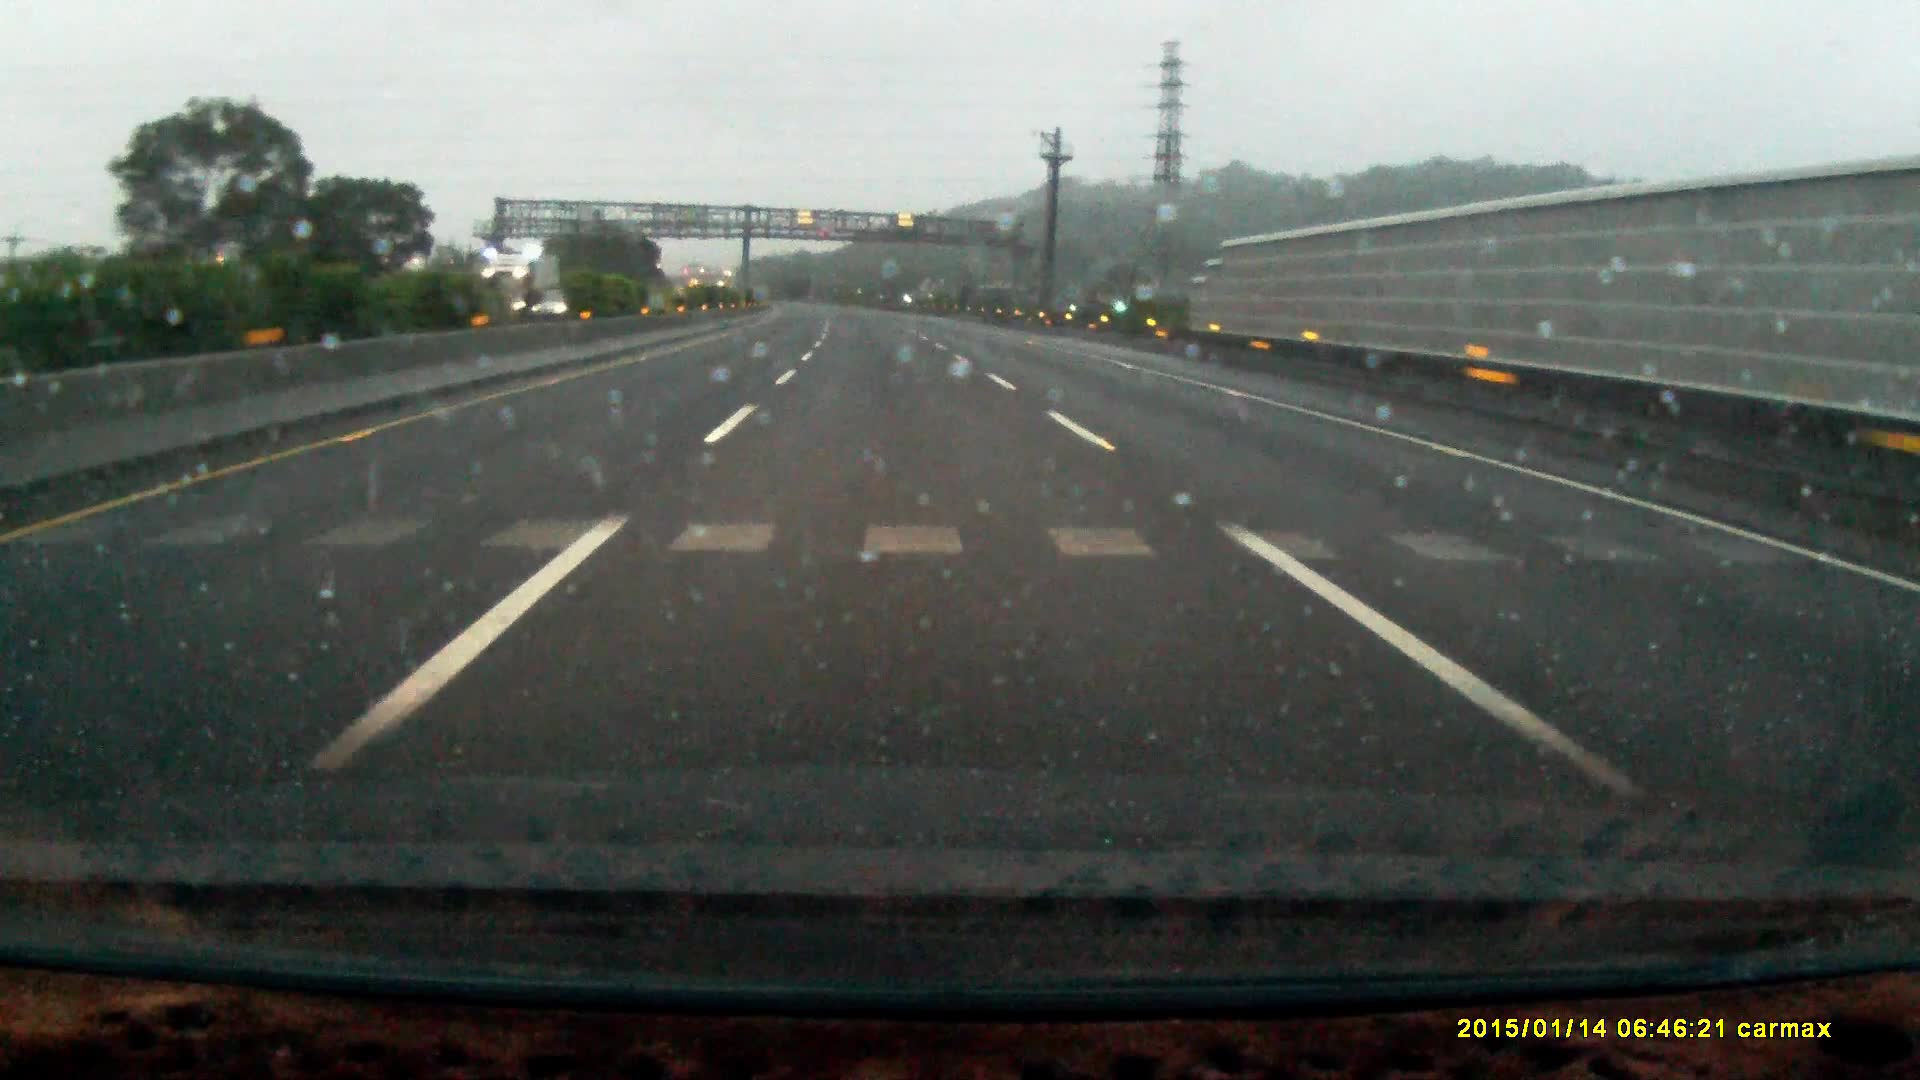vehicle: (483, 252, 566, 320), (526, 285, 585, 320)
